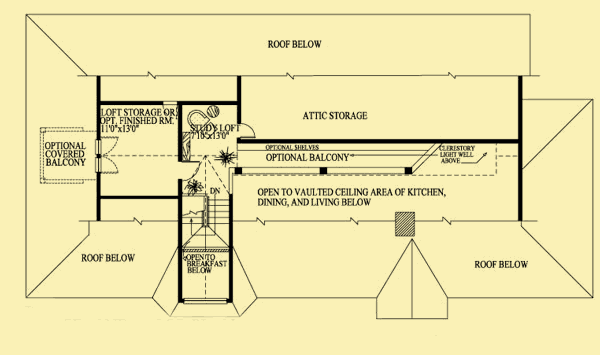room with a chair: (178, 104, 240, 169)
stairs to other floors: (180, 189, 232, 252)
